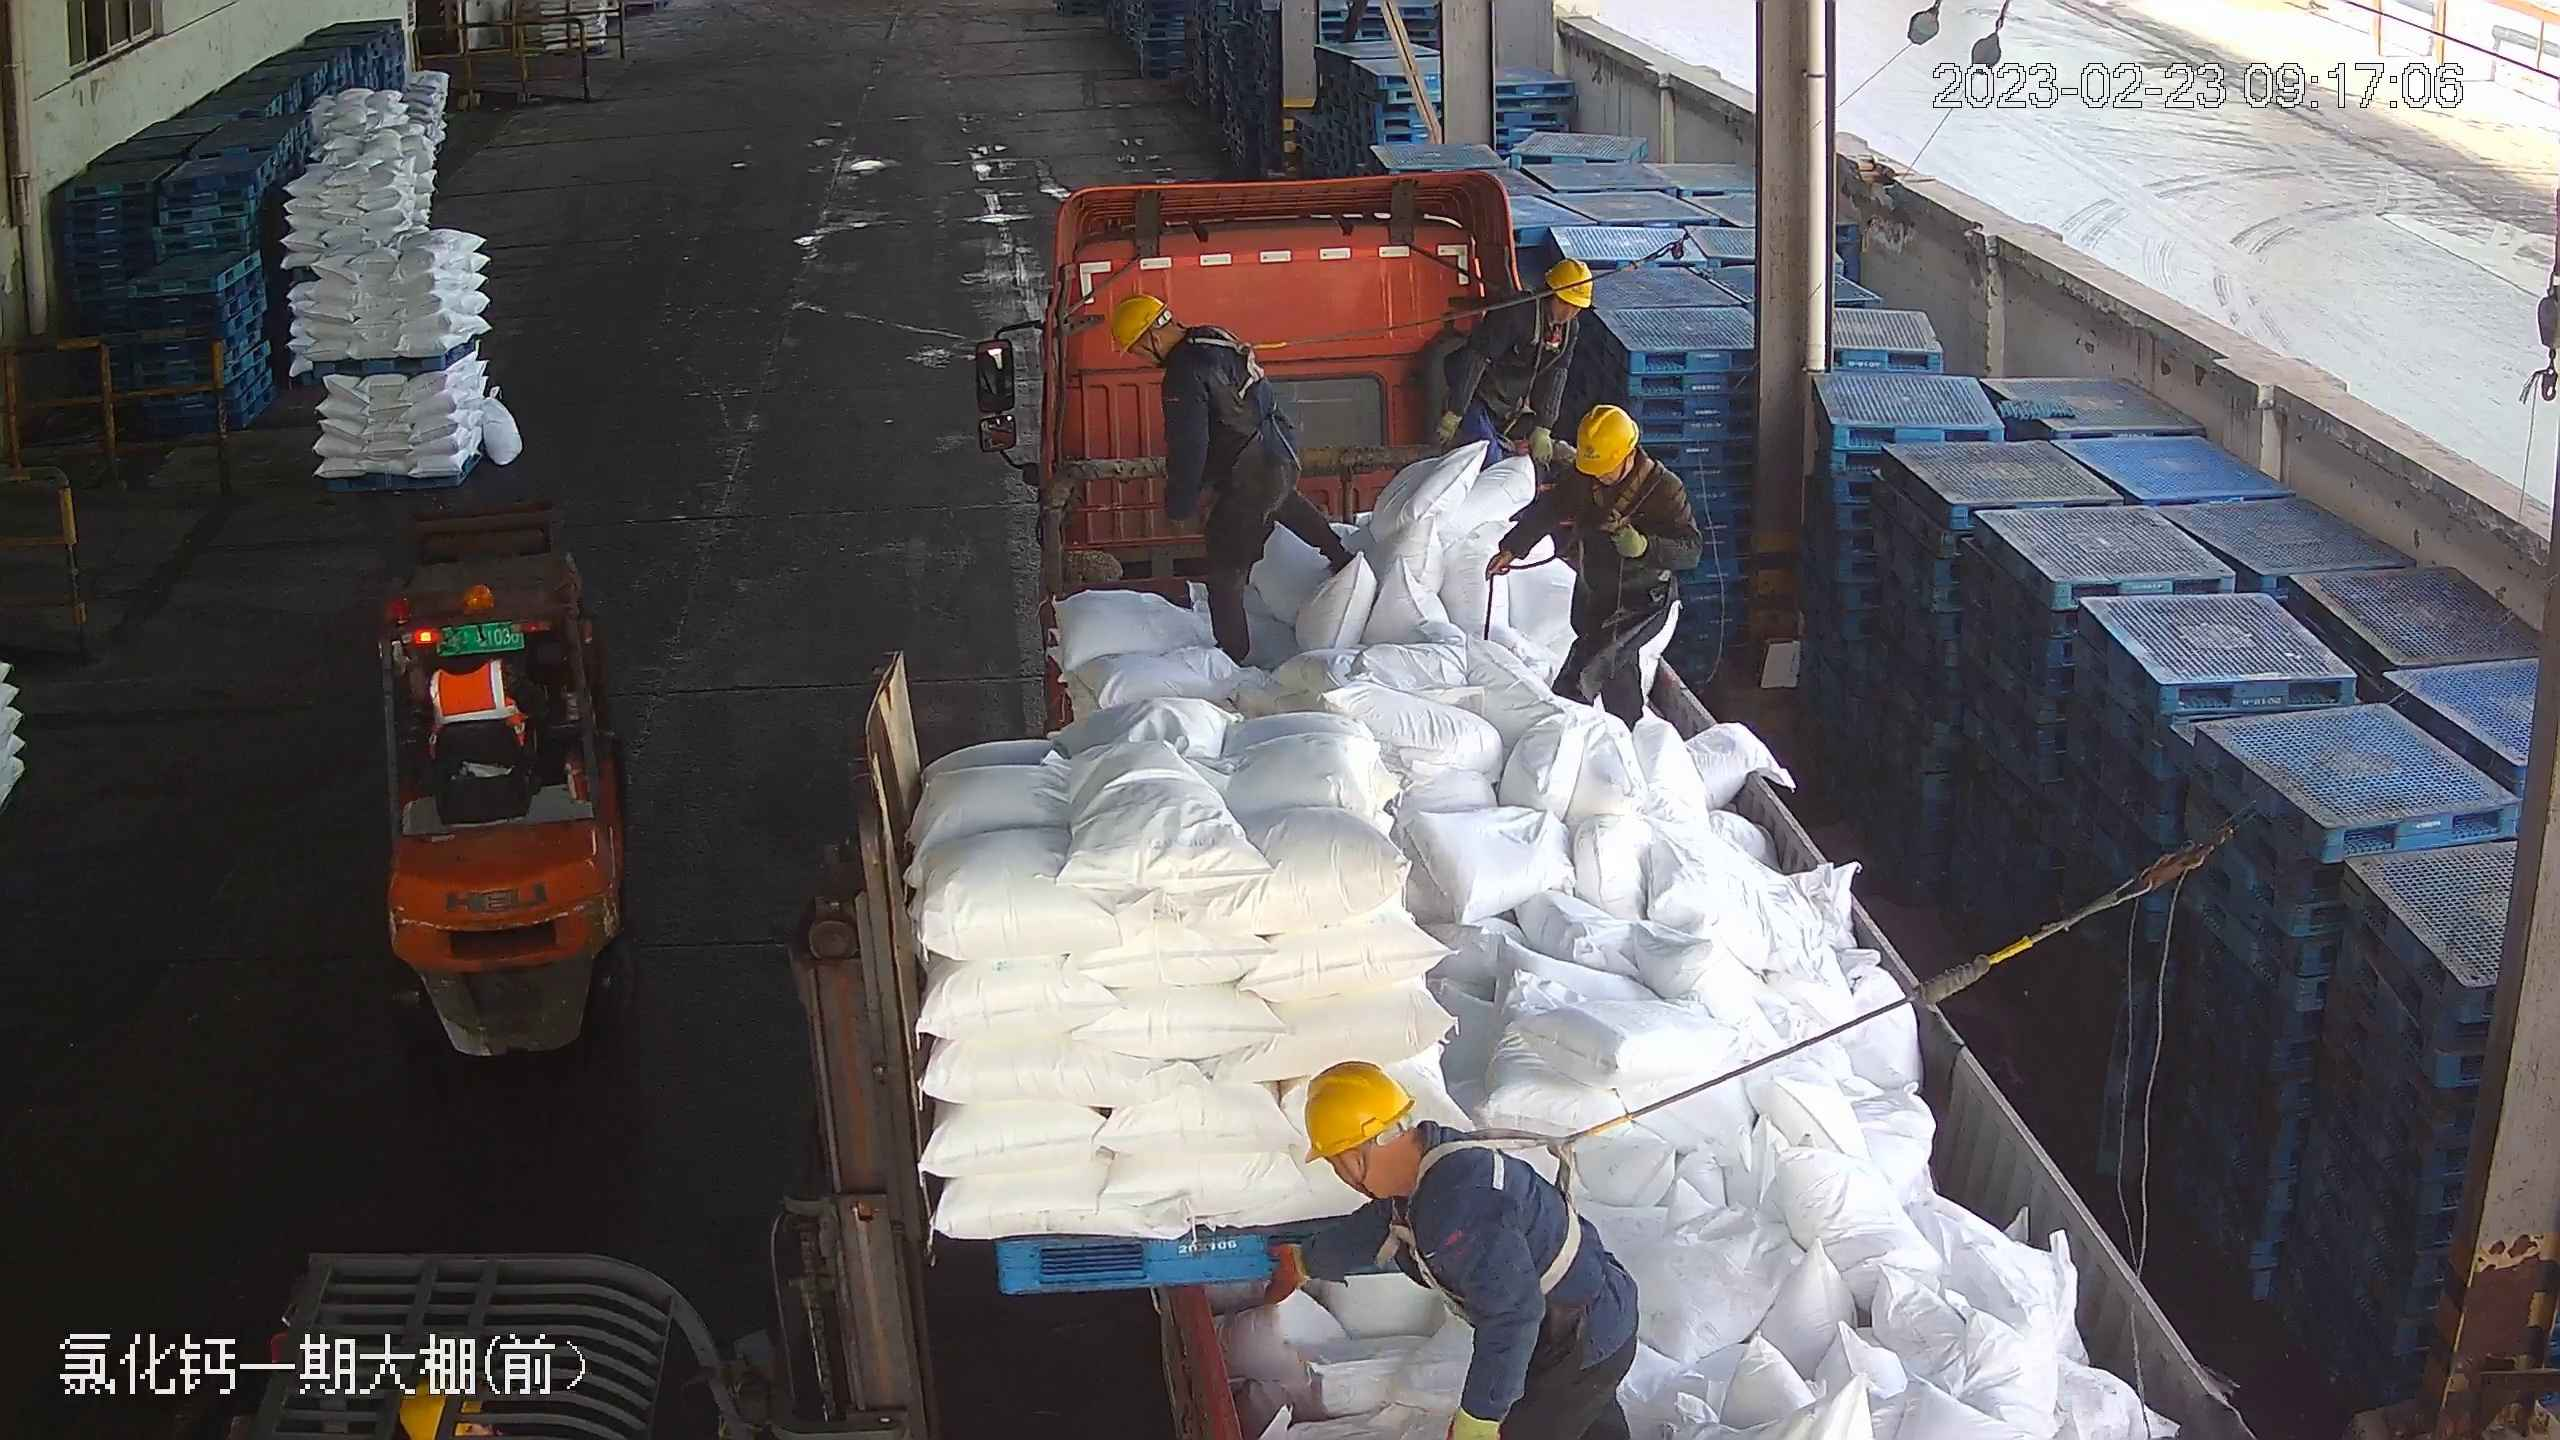belt: (1420, 1127, 1622, 1295), (1181, 328, 1284, 412), (1522, 292, 1572, 353)
head: (1296, 1062, 1515, 1264), (1103, 290, 1246, 402), (1560, 404, 1682, 522), (1490, 260, 1599, 367), (1568, 403, 1640, 475)
helmet: (1297, 1059, 1498, 1258), (1298, 1059, 1415, 1158), (1562, 403, 1646, 480), (1104, 290, 1167, 353), (1541, 256, 1595, 306)
people: (1281, 1063, 1641, 1438), (1106, 291, 1340, 669), (1492, 405, 1700, 746), (1438, 258, 1597, 492)
truck: (973, 167, 2265, 1440)
